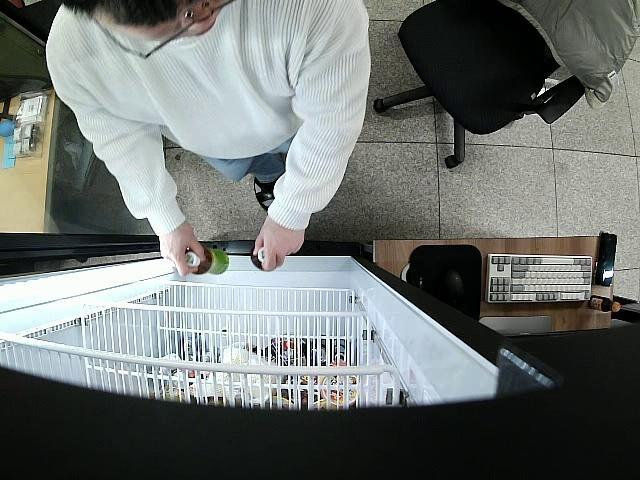19_17cha: (184, 248, 230, 274), (250, 244, 270, 272)
